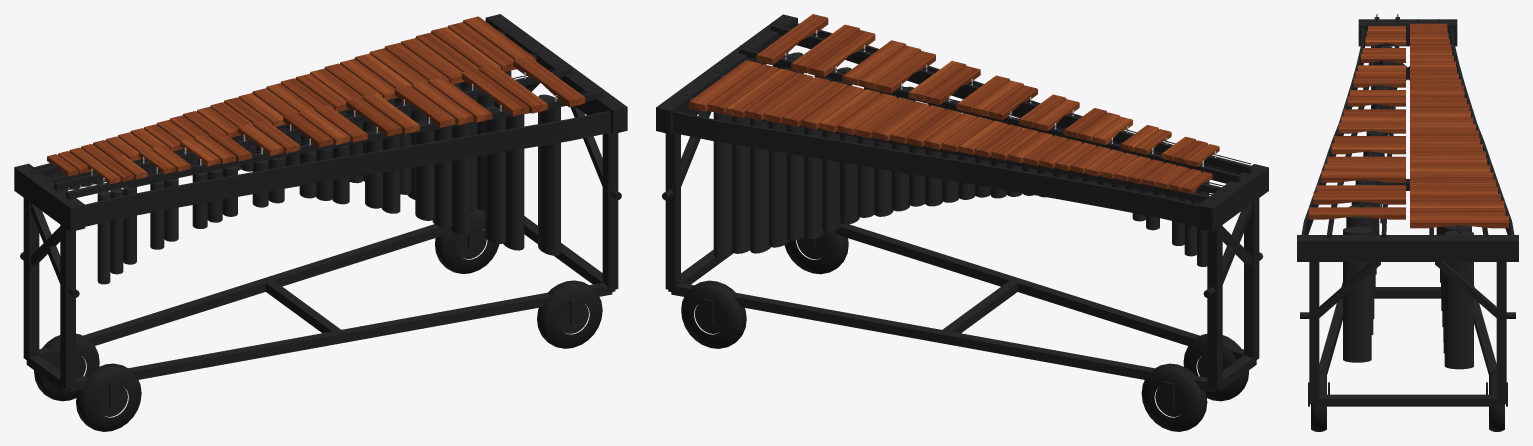
The model's file is marimba-4.3-synthetic-black.glb.
3 renders of one model, left to right at view 1: azimuth 30°, elevation 25°; view 2: azimuth 150°, elevation 25°; view 3: azimuth 270°, elevation 25°, orthographic. The views are drawn at different scales.
Visible parts, largest first — view 1: frame, bars-synthetic, resonators-black, artwork, rubber; view 2: frame, bars-synthetic, resonators-black, rubber; view 3: bars-synthetic, frame, resonators-black, rubber.
Part boxes in pixels (left/top/right/bottom): frame: left=14, top=14, right=627, bottom=416; bars-synthetic: left=47, top=16, right=585, bottom=184; resonators-black: left=64, top=70, right=560, bottom=284; artwork: left=85, top=112, right=610, bottom=226; rubber: left=20, top=27, right=621, bottom=431; frame: left=656, top=14, right=1268, bottom=416; bars-synthetic: left=688, top=14, right=1219, bottom=193; resonators-black: left=713, top=52, right=1209, bottom=266; rubber: left=662, top=22, right=1263, bottom=431; bars-synthetic: left=1308, top=23, right=1508, bottom=228; frame: left=1297, top=17, right=1518, bottom=406; resonators-black: left=1343, top=45, right=1473, bottom=369; rubber: left=1300, top=14, right=1515, bottom=431.
Size of the model in its own units: 2.13 by 0.982 by 0.8992.
6 materials, 1 textured.
